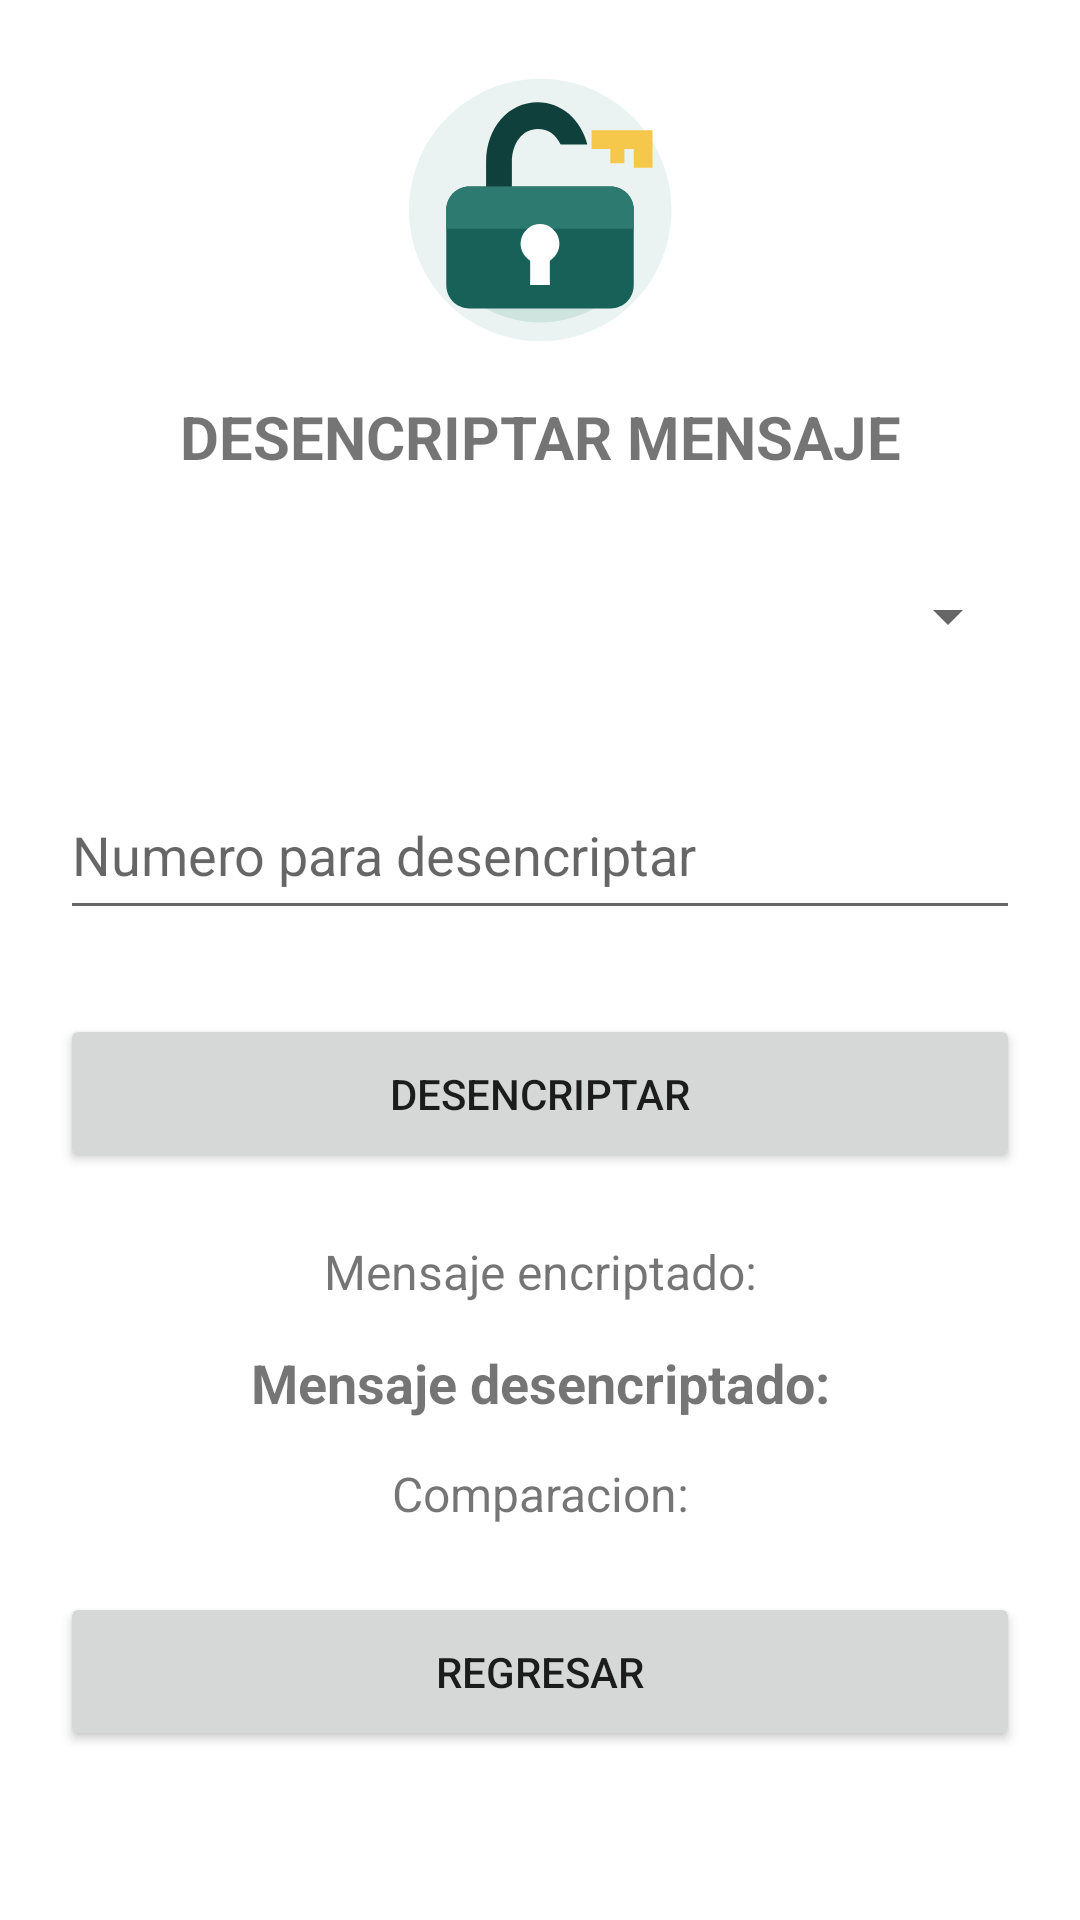

Icons on this 1080×1920 Android screen, each with its box as [left=x1, top=y1, right=x2, bottom=y2]:
unlock key: [left=446, top=102, right=653, bottom=323]
